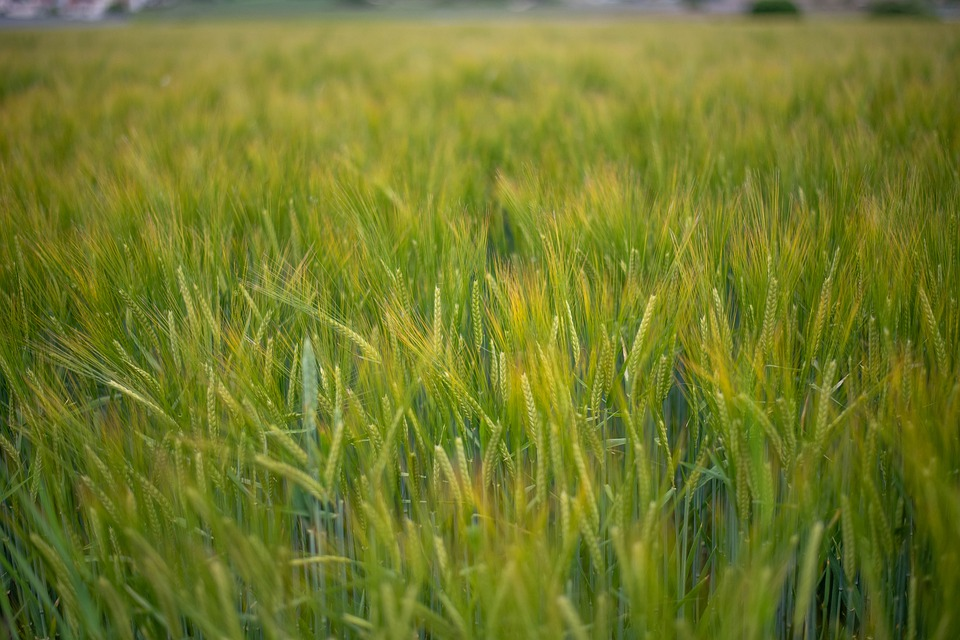Wheat: (387, 189, 863, 579)
